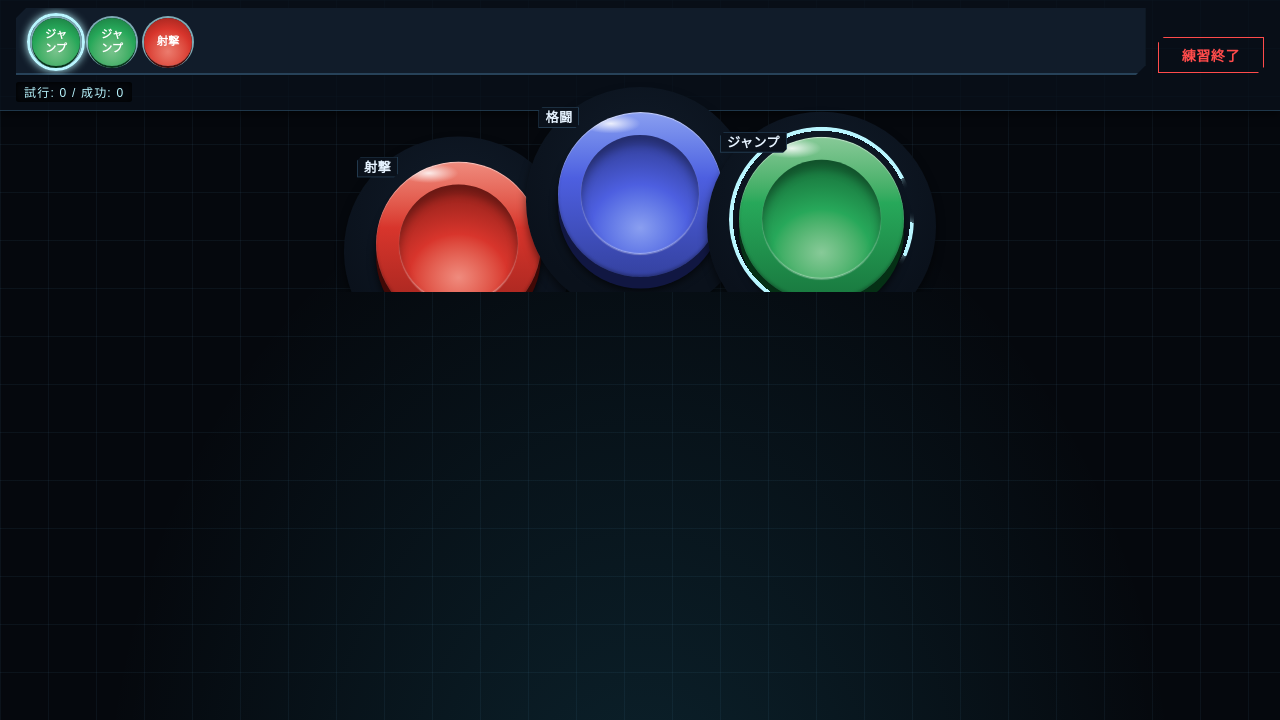
Test: PracticeSession › ボタン入力 › 間違ったボタンを押すと失敗フィードバックが表示される
Press the mouse on the button "射撃": x=458, y=244 [376,162,541,327]
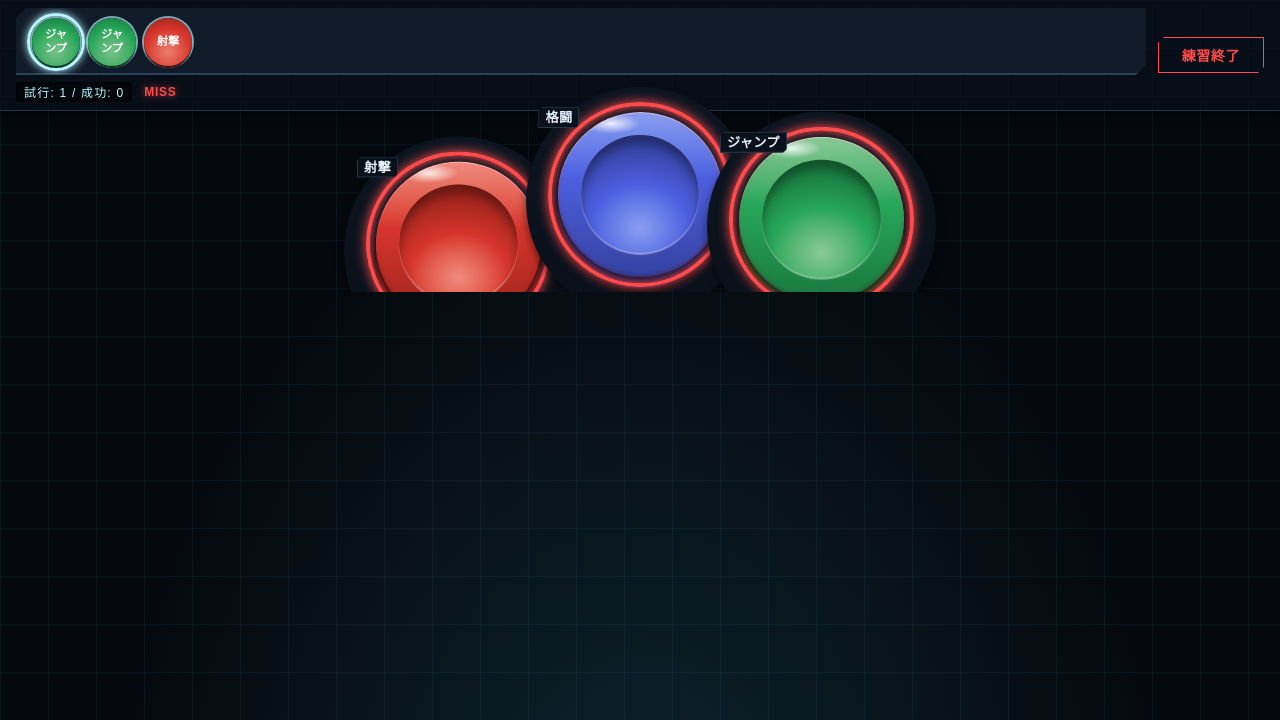
Expected: the text "MISS" is shown, [144,85,176,99]
